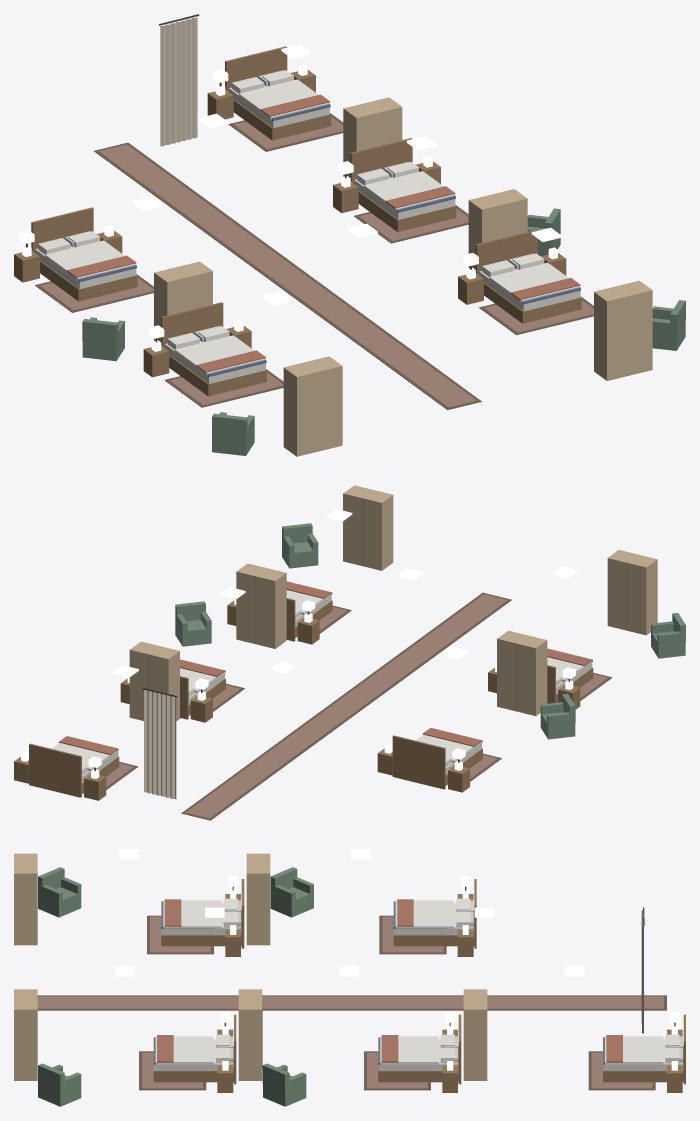
Rendered from fine-s2.glb.
3 renders of one model, top to bottom at view 1: azimuth 30°, elevation 25°; view 2: azimuth 150°, elevation 25°; view 3: azimuth 270°, elevation 25°, orthographic. The views are drawn at different scales.
Visible parts, largest first — view 1: soft-s2, dresser.006, dresser.009, bed-frame.005, bed-frame.006, bed-frame.008, bed-frame.007, bed-frame.009, dresser.007, dresser.008, dresser.005, lounge-chair.004 (+8 smaller); view 2: soft-s2, dresser.005, dresser.006, dresser.009, dresser.008, dresser.007, bed-frame.005, bed-frame.007, lounge-chair.006, lounge-chair.007, lounge-chair.004, lounge-chair.005 (+7 smaller); view 3: soft-s2, dresser.005, dresser.007, dresser.008, dresser.006, dresser.009, bed-frame.008, bed-frame.006, lounge-chair.004, bed-frame.009, lounge-chair.005, bed-frame.005 (+8 smaller).
Part boxes in pixels (x1=…): soft-s2: x1=19, y1=14, x2=593, y2=409; dresser.006: x1=283, y1=356, x2=342, y2=456; dresser.009: x1=594, y1=280, x2=652, y2=380; bed-frame.005: x1=31, y1=207, x2=137, y2=301; bed-frame.006: x1=161, y1=302, x2=266, y2=396; bed-frame.008: x1=350, y1=138, x2=456, y2=231; bed-frame.007: x1=225, y1=46, x2=331, y2=140; bed-frame.009: x1=475, y1=229, x2=581, y2=323; dresser.007: x1=343, y1=97, x2=402, y2=177; dresser.008: x1=468, y1=189, x2=527, y2=269; dresser.005: x1=154, y1=261, x2=212, y2=341; lounge-chair.004: x1=82, y1=317, x2=124, y2=361; soft-s2: x1=52, y1=581, x2=612, y2=820; dresser.005: x1=497, y1=630, x2=547, y2=715; dresser.006: x1=607, y1=550, x2=657, y2=635; dresser.009: x1=343, y1=485, x2=393, y2=570; dresser.008: x1=236, y1=563, x2=286, y2=648; dresser.007: x1=129, y1=641, x2=179, y2=721; bed-frame.005: x1=392, y1=735, x2=482, y2=789; bed-frame.007: x1=29, y1=743, x2=119, y2=797; lounge-chair.006: x1=175, y1=601, x2=211, y2=646; lounge-chair.007: x1=282, y1=523, x2=318, y2=568; lounge-chair.004: x1=540, y1=693, x2=575, y2=739; lounge-chair.005: x1=651, y1=613, x2=685, y2=658; soft-s2: x1=37, y1=876, x2=680, y2=1090; dresser.005: x1=246, y1=853, x2=270, y2=945; dresser.007: x1=463, y1=989, x2=487, y2=1080; dresser.008: x1=238, y1=989, x2=262, y2=1080; dresser.006: x1=14, y1=853, x2=37, y2=945; dresser.009: x1=14, y1=989, x2=37, y2=1080; bed-frame.008: x1=378, y1=1014, x2=461, y2=1084; bed-frame.006: x1=161, y1=879, x2=244, y2=948; lounge-chair.004: x1=270, y1=867, x2=313, y2=917; bed-frame.009: x1=153, y1=1014, x2=236, y2=1084; lounge-chair.005: x1=38, y1=867, x2=81, y2=917; bed-frame.005: x1=393, y1=879, x2=476, y2=948.
Size of the model in its own units: 12.44 by 3.11 by 17.02.
